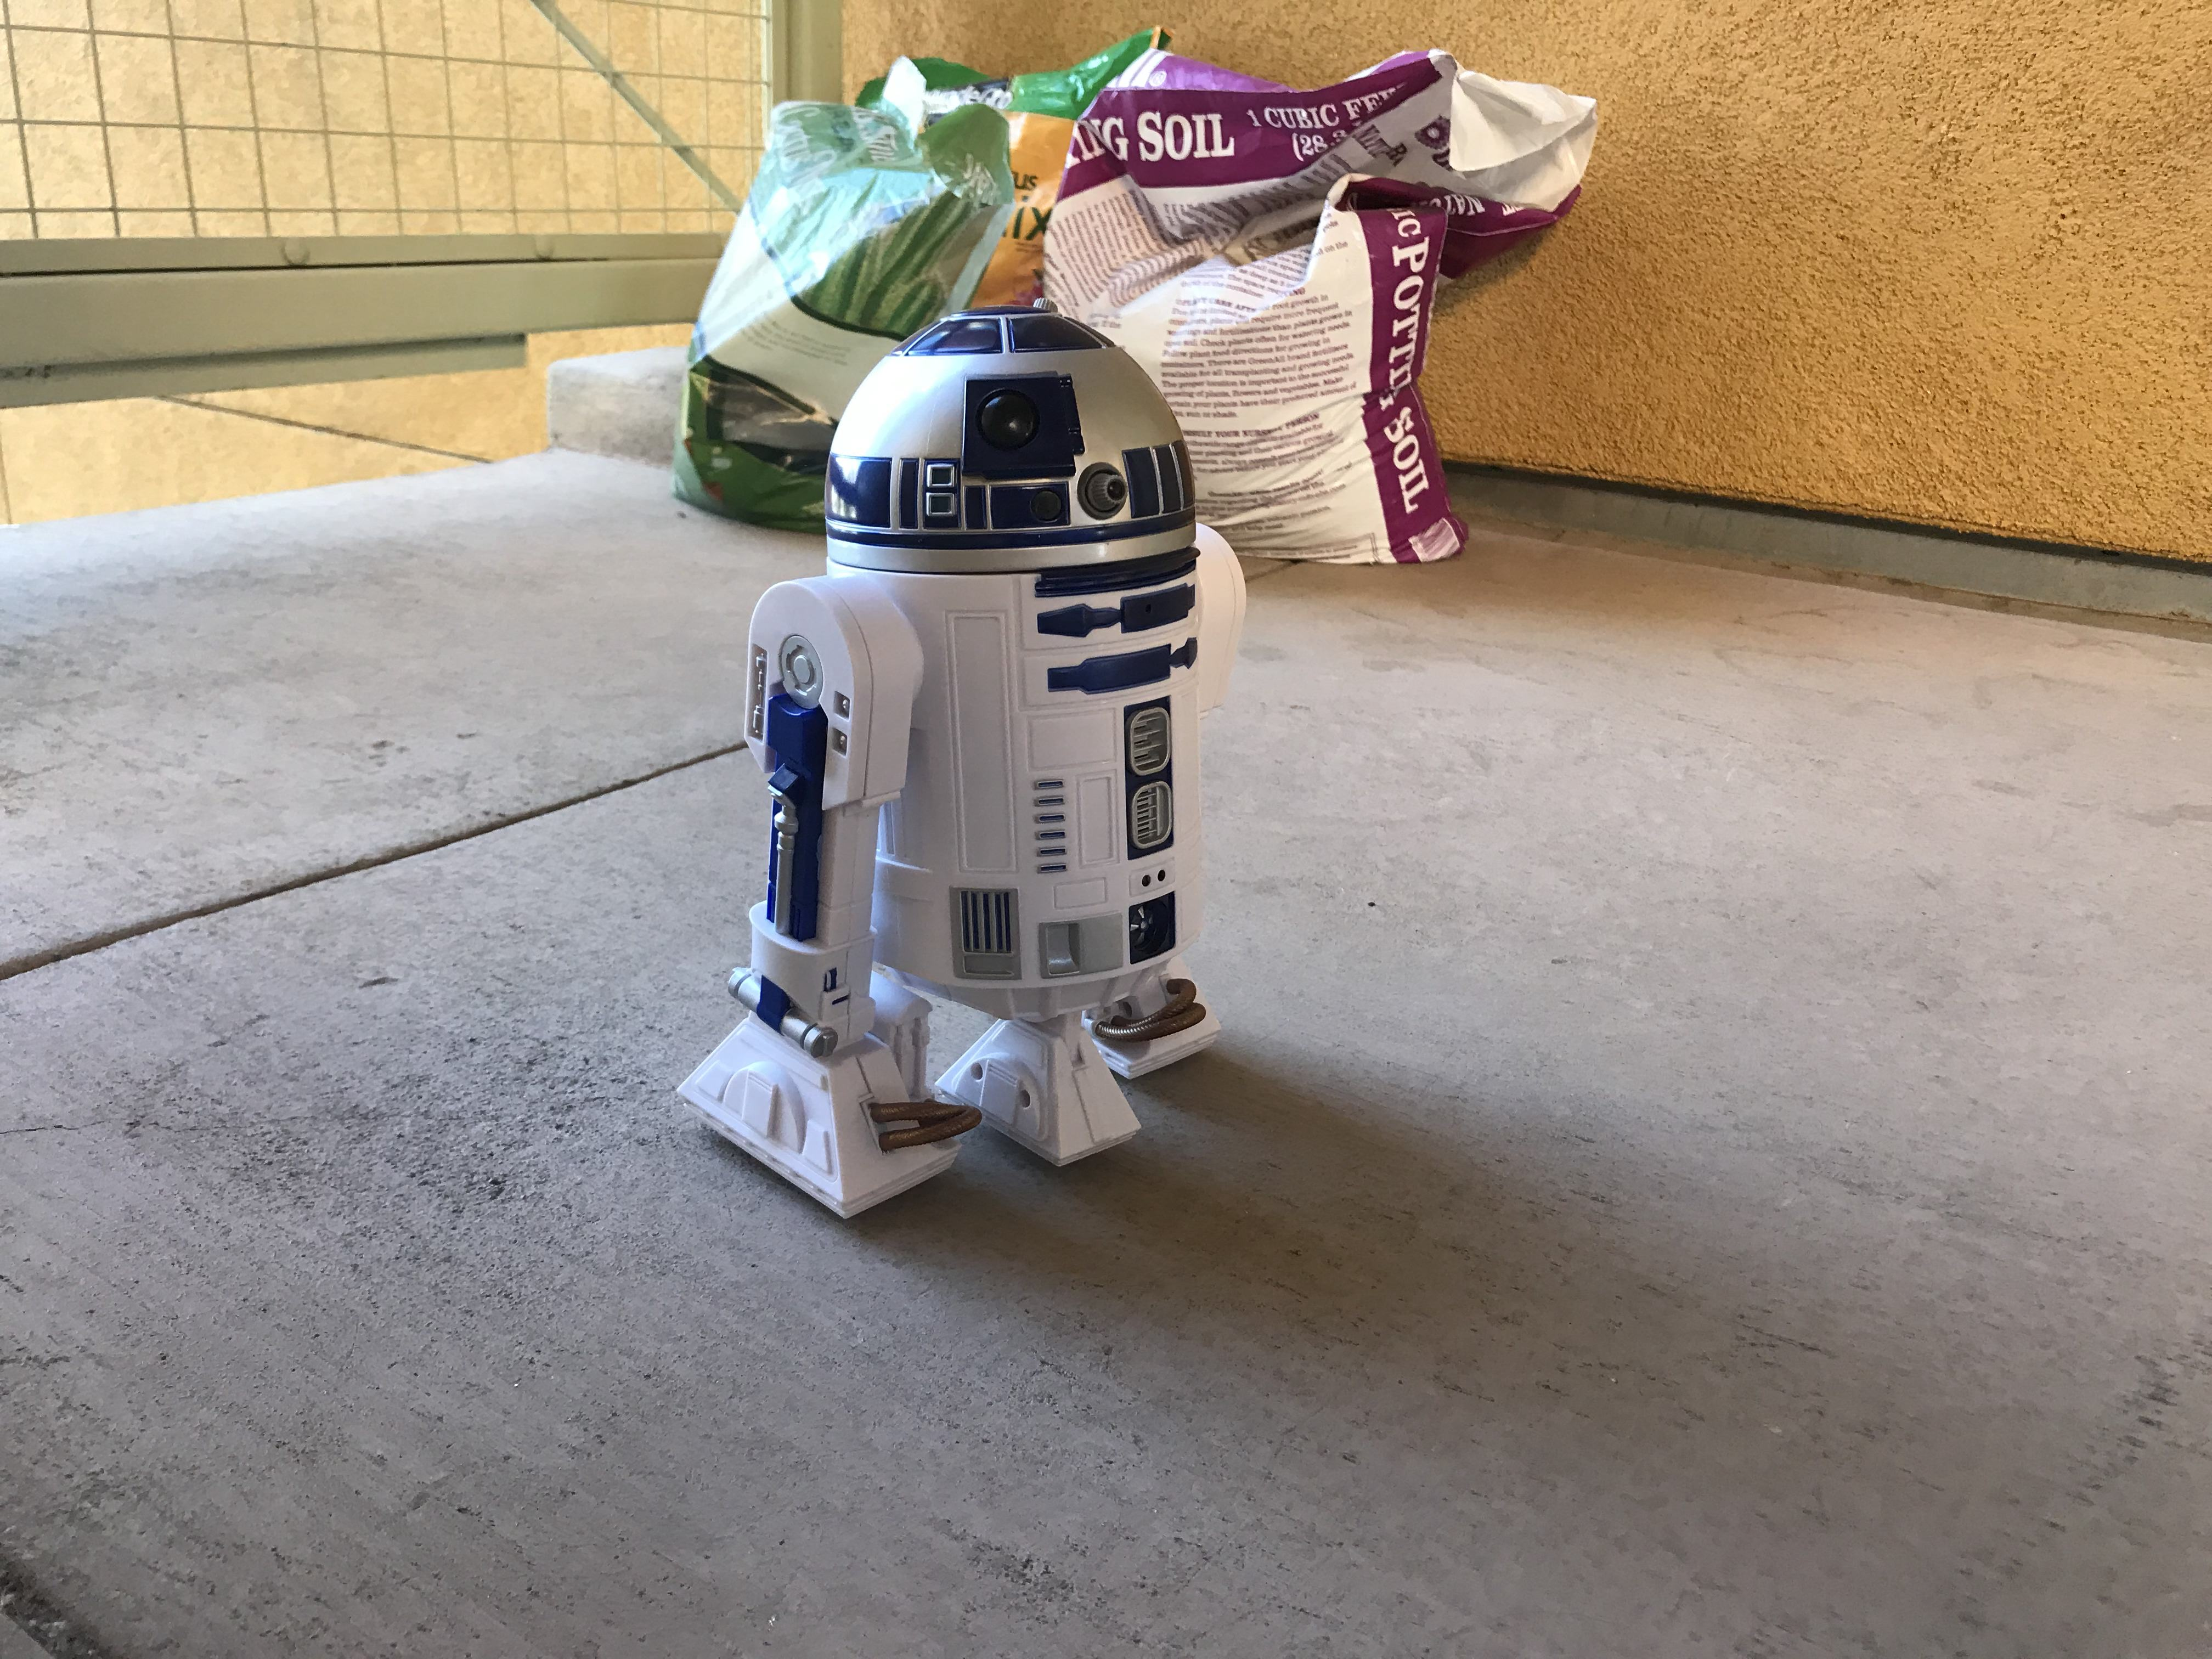r2d2: (678, 301, 1223, 1216)
